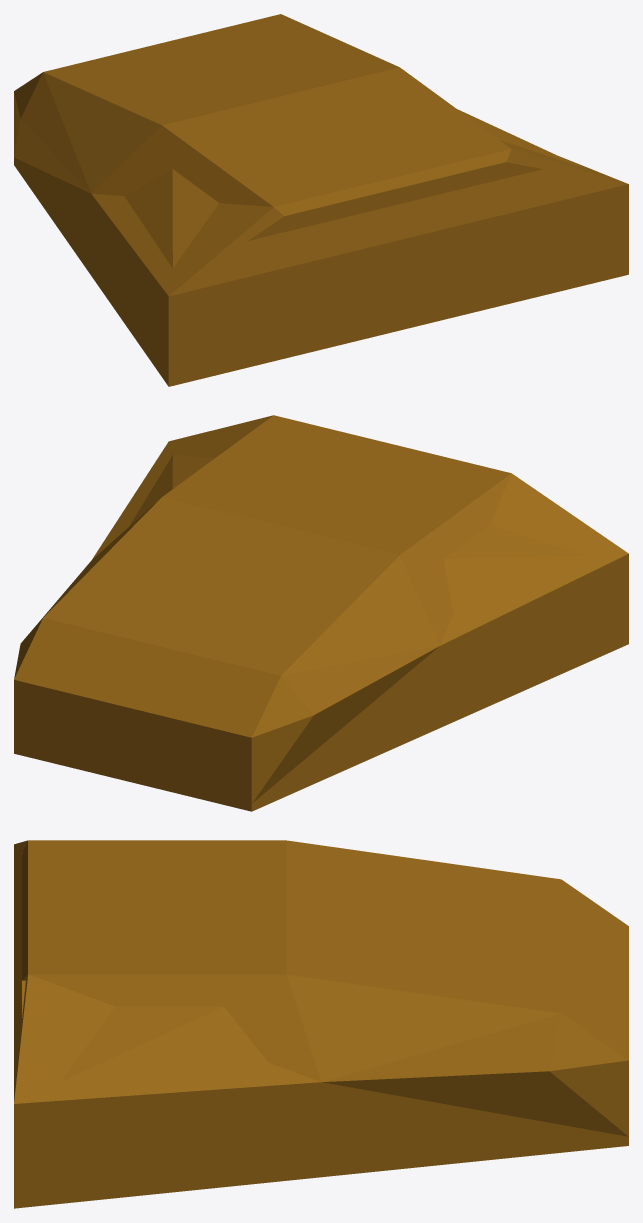
Rendered from stadium3.obj.
3 views of the same model, one above another, from view 1: azimuth 30°, elevation 25°; view 2: azimuth 150°, elevation 25°; view 3: azimuth 270°, elevation 25° (orthographic). The views are drawn at different scales.
Parts seen in each view (by area): view 1: Cube_Cube_Material.001; view 2: Cube_Cube_Material.001; view 3: Cube_Cube_Material.001.
Part boxes in pixels (bbox=[...]): Cube_Cube_Material.001: bbox=[14, 14, 628, 386]; Cube_Cube_Material.001: bbox=[14, 415, 628, 811]; Cube_Cube_Material.001: bbox=[14, 840, 628, 1208].
Bounding box in the file's own units: 29.12 × 8.97 × 29.15.
